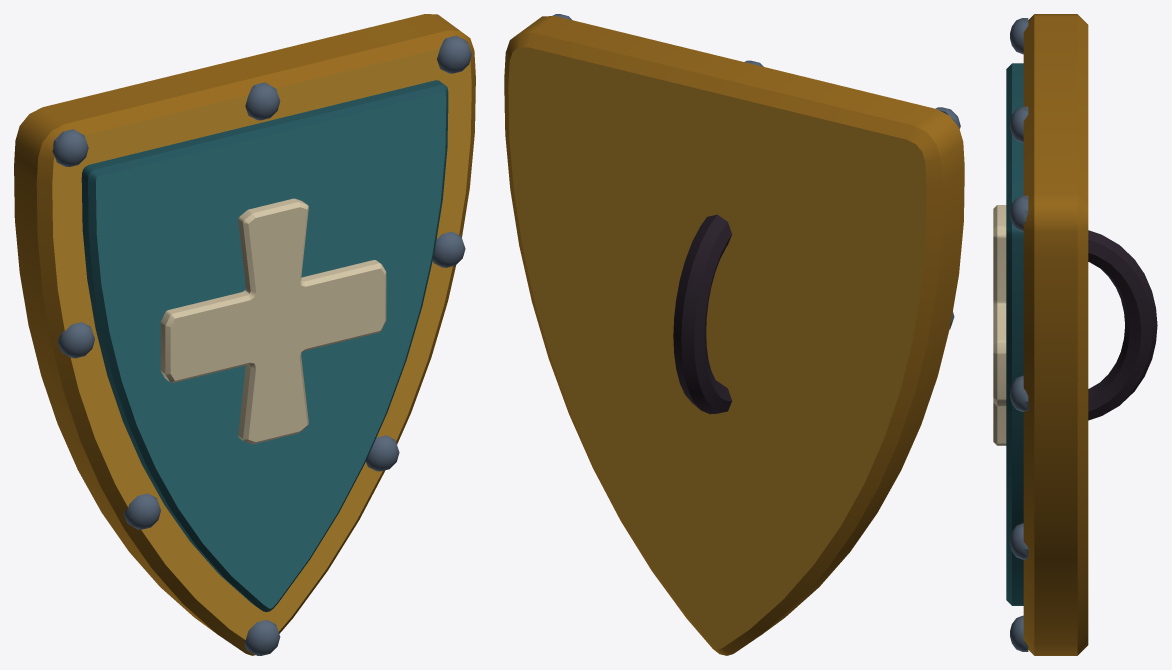
File: HeaterShield_10.glb
3 views of the same model, side by side, from view 1: azimuth 30°, elevation 25°; view 2: azimuth 150°, elevation 25°; view 3: azimuth 270°, elevation 25° (orthographic). The views are drawn at different scales.
Visible parts, largest first — view 1: HeaterShield_10; view 2: HeaterShield_10; view 3: HeaterShield_10.
Part boxes in pixels (left/top/right/bottom): HeaterShield_10: left=14, top=14, right=475, bottom=655; HeaterShield_10: left=504, top=14, right=964, bottom=655; HeaterShield_10: left=993, top=14, right=1157, bottom=655.
Bounding box in the file's own units: 2.23 × 2.81 × 0.76.
